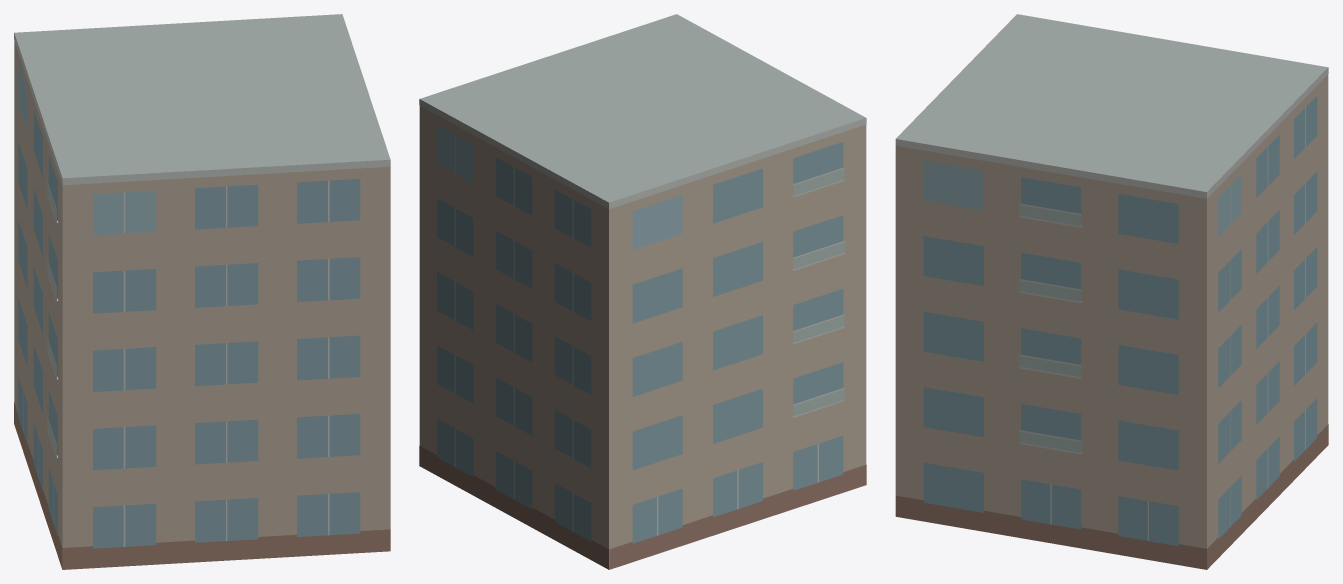
File: survey-upis-32491782.glb
The picture shows the model from 3 angles, left to right: view 1: azimuth 30°, elevation 25°; view 2: azimuth 150°, elevation 25°; view 3: azimuth 270°, elevation 25°; orthographic projection. The views are drawn at different scales.
Parts seen in each view (by area): view 1: survey-upis-32491782.tmp; view 2: survey-upis-32491782.tmp; view 3: survey-upis-32491782.tmp.
Boxes of the visible parts, x1,y1,x2,y2 form: survey-upis-32491782.tmp: [14, 14, 390, 569]; survey-upis-32491782.tmp: [419, 14, 866, 569]; survey-upis-32491782.tmp: [895, 14, 1328, 569].
Size of the model in its own units: 13.91 by 13.75 by 14.29.
